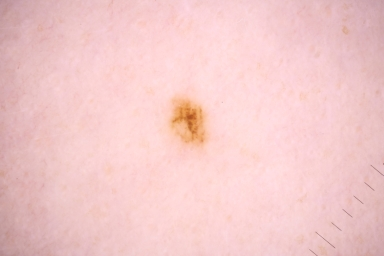melanoma: (171, 95, 210, 146)
